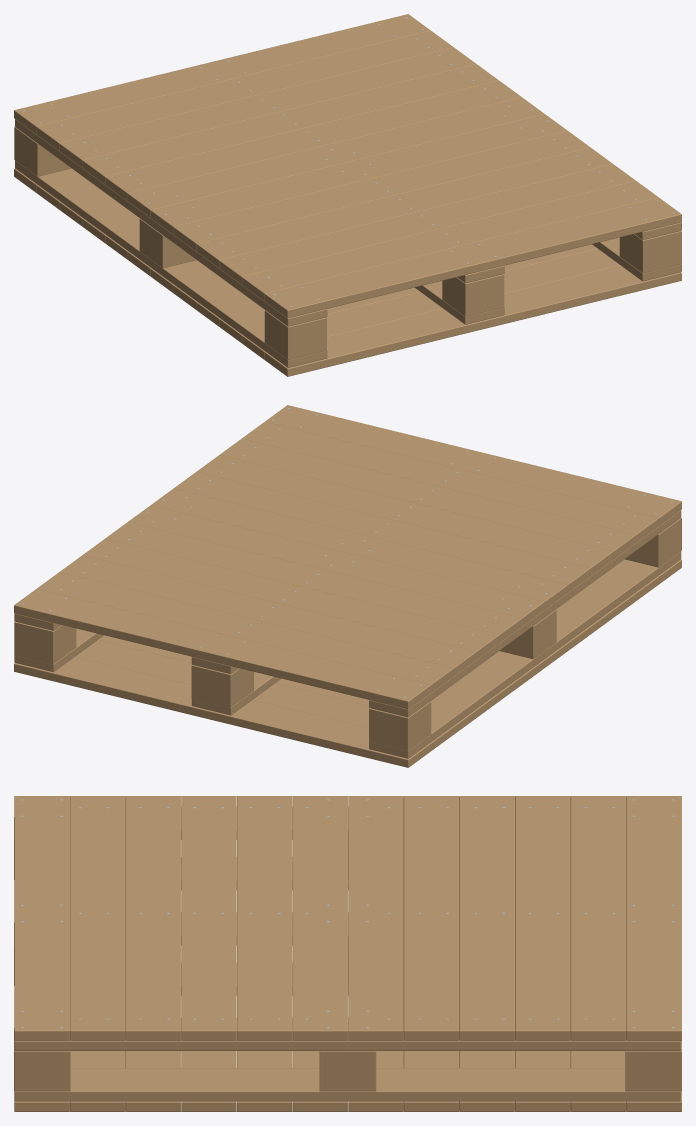
The model's file is pallet_block_a09.glb.
3 renders of one model, top to bottom at view 1: azimuth 30°, elevation 25°; view 2: azimuth 150°, elevation 25°; view 3: azimuth 270°, elevation 25°, orthographic. The views are drawn at different scales.
Size of the model in its own units: 1 by 0.1618 by 1.2.
